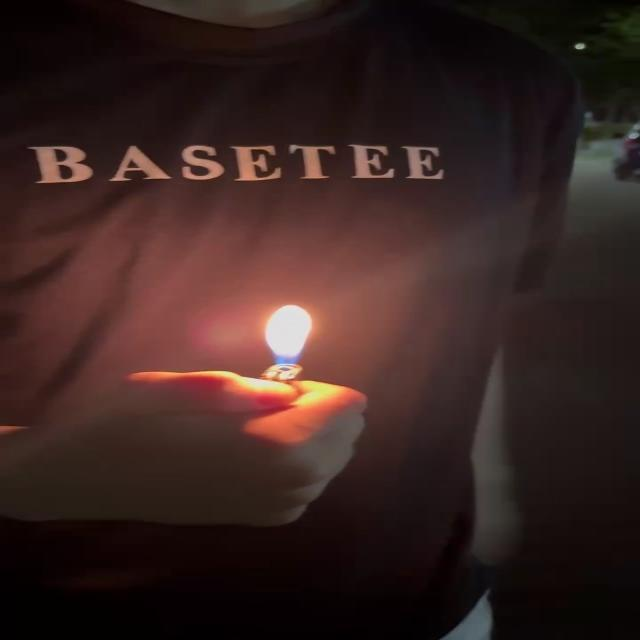Fire: (265, 305, 317, 369)
